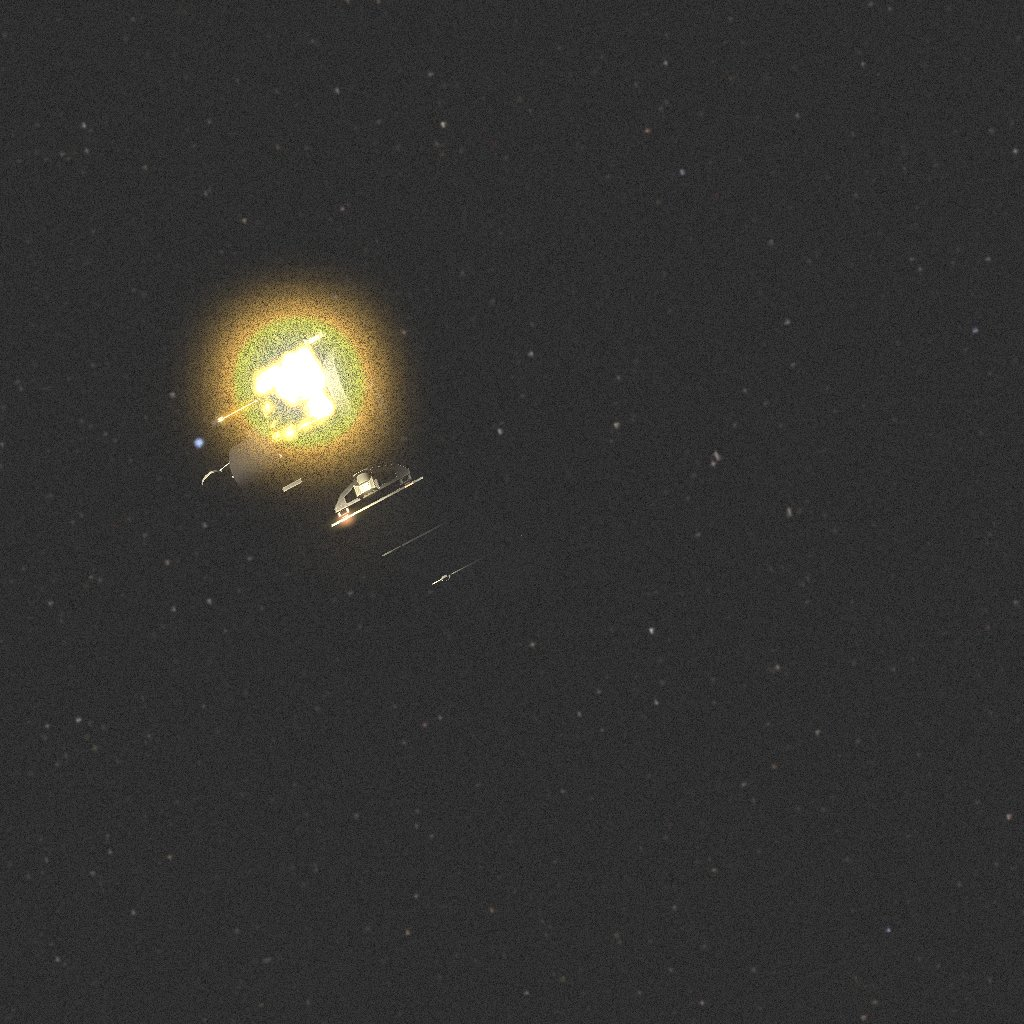earth_observation_sat_1: (192, 321, 510, 603)
